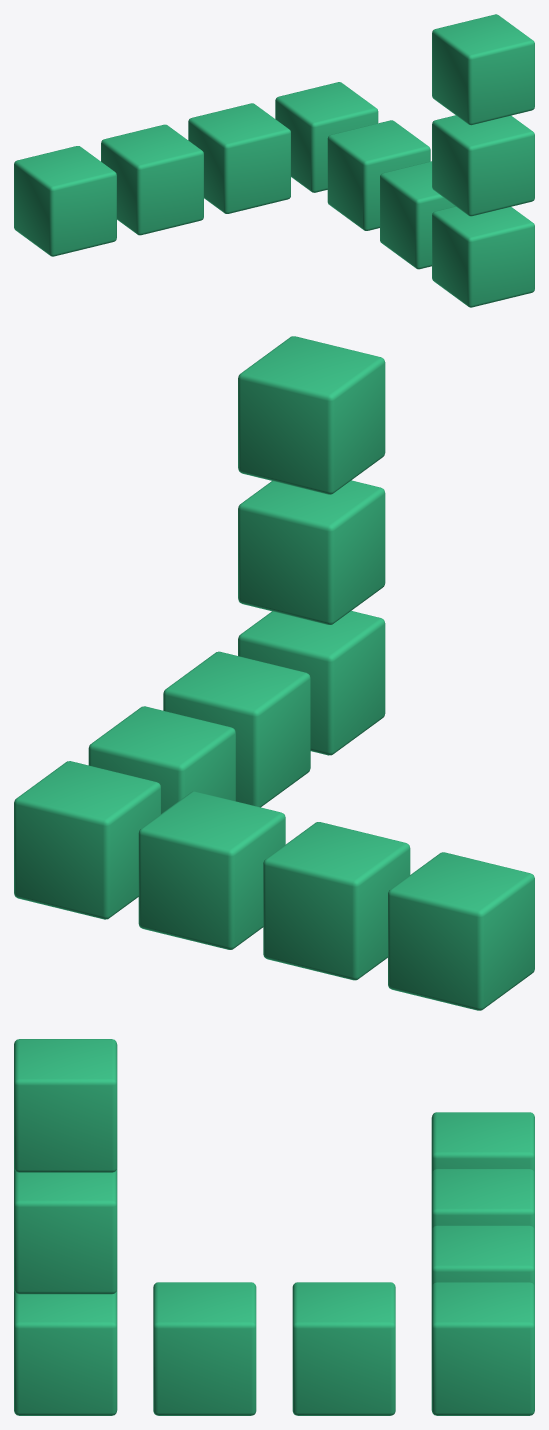
File: Triangle.gltf
3 views of the same model, one above another, from view 1: azimuth 30°, elevation 25°; view 2: azimuth 150°, elevation 25°; view 3: azimuth 270°, elevation 25° (orthographic). The views are drawn at different scales.
Visible parts, largest first — view 1: Cube.009, Cube.010, Cube.006, Cube.001, Cube.004; view 2: Cube.009, Cube.006, Cube.010, Cube.001, Cube.004; view 3: Cube.009, Cube.010, Cube.001, Cube.006, Cube.004.
Part boxes in pixels (left/top/right/bottom): Cube.009: left=275, top=82, right=455, bottom=269; Cube.010: left=432, top=115, right=534, bottom=307; Cube.006: left=101, top=103, right=290, bottom=235; Cube.001: left=432, top=14, right=534, bottom=125; Cube.004: left=14, top=146, right=116, bottom=256; Cube.009: left=14, top=651, right=310, bottom=919; Cube.006: left=138, top=791, right=410, bottom=980; Cube.010: left=238, top=480, right=385, bottom=755; Cube.001: left=238, top=336, right=385, bottom=494; Cube.004: left=388, top=852, right=534, bottom=1010; Cube.009: left=153, top=1282, right=534, bottom=1415; Cube.010: left=14, top=1168, right=117, bottom=1415; Cube.001: left=14, top=1039, right=117, bottom=1172; Cube.006: left=431, top=1169, right=534, bottom=1286; Cube.004: left=431, top=1112, right=534, bottom=1173.
Bounding box in the file's own units: 7.18 × 5.28 × 7.4.
